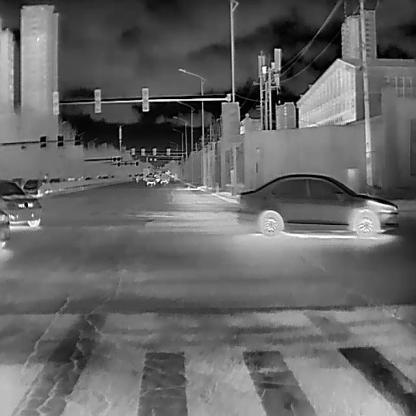car: (237, 171, 399, 235), (0, 179, 42, 230), (21, 176, 42, 194), (145, 174, 155, 185), (159, 174, 169, 183)
